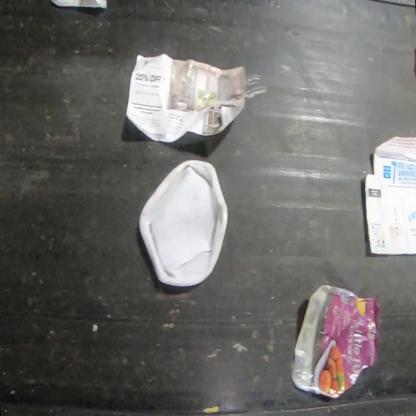cardboard: (365, 136, 415, 256)
rigid_plastic: (139, 160, 228, 286)
soft_plastic: (292, 284, 381, 399)
